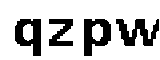p: (80, 14, 111, 60)
q: (13, 18, 44, 60)
w: (112, 16, 160, 53)
z: (46, 14, 74, 49)
